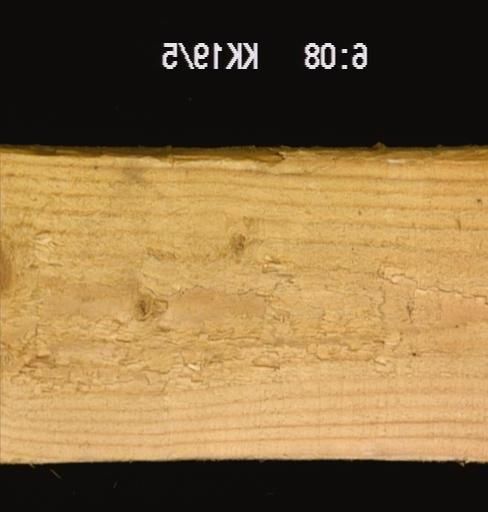small_knot: (222, 212, 264, 265), (125, 286, 171, 323)
sound_knot: (0, 222, 25, 303)
wave: (0, 146, 486, 170)
